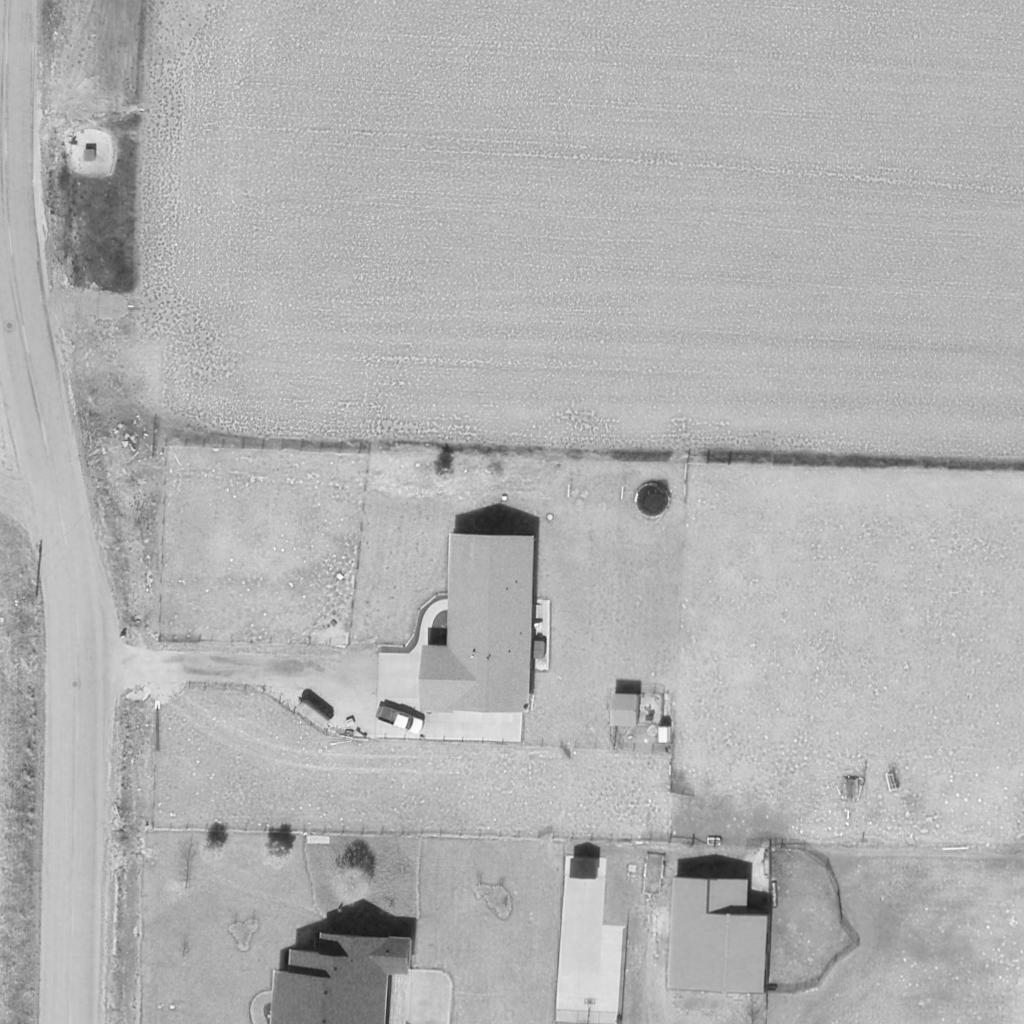vehicle: (376, 701, 426, 737)
